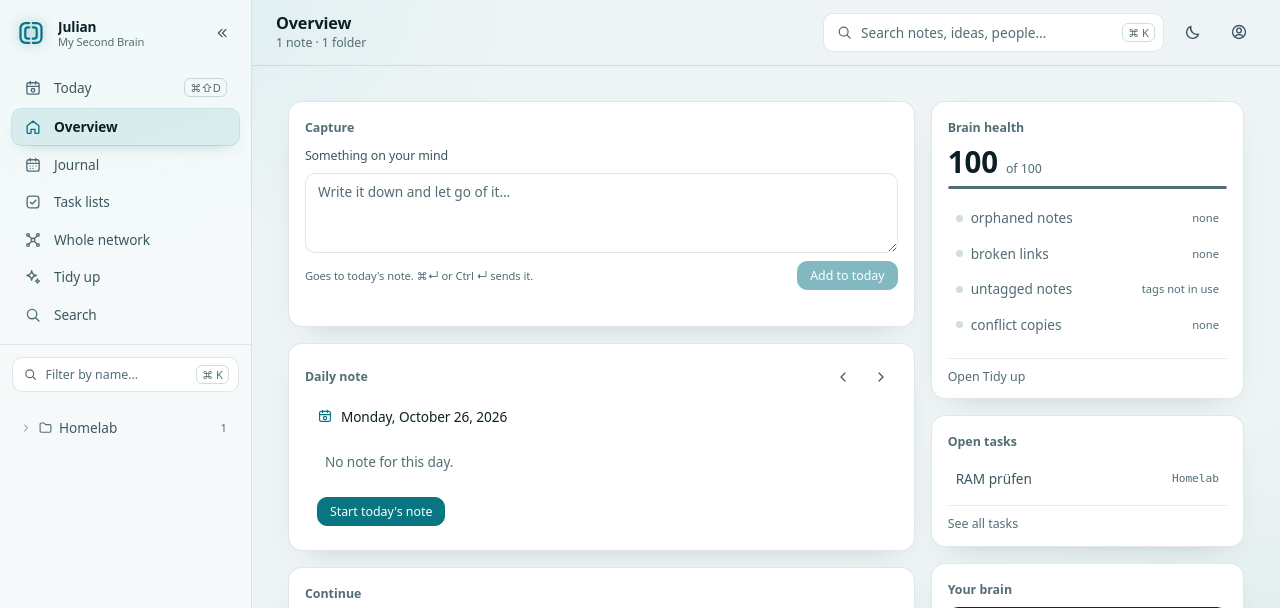
Test case: the journal › shows the calendar and the open tasks side by side
Click the button "Journal": (125, 165) [12,147,239,182]
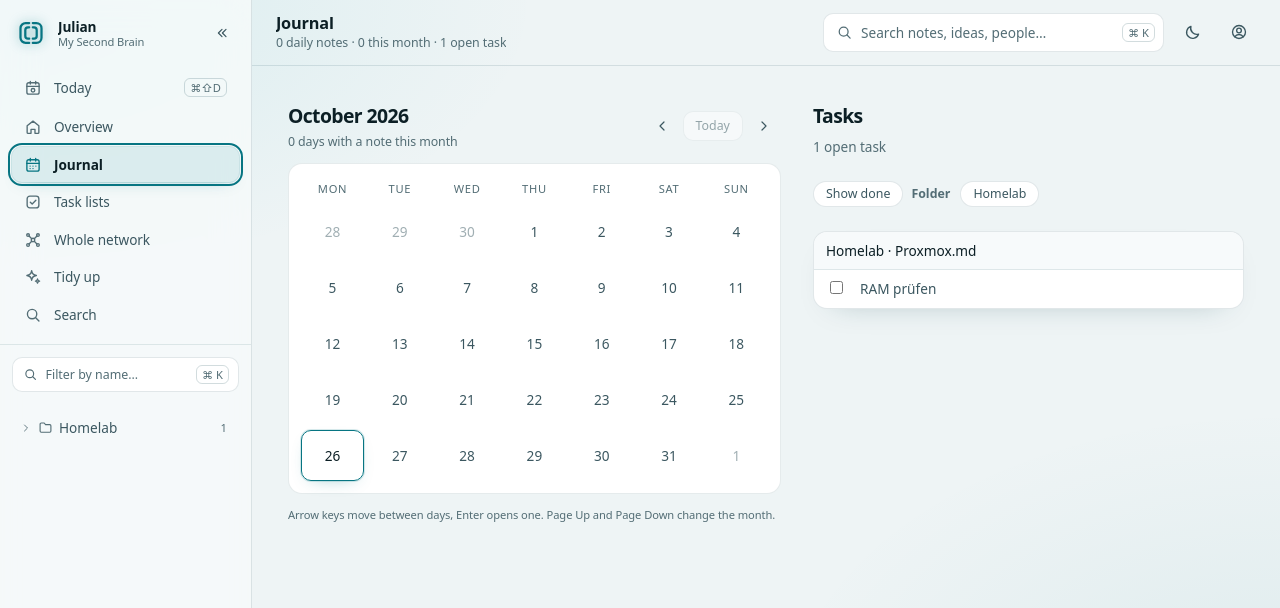
Expected: the button "RAM prüfen" is shown, [860,278,936,300]
Now the table that starts with "Mon" is shown, box [288,163,781,494]
